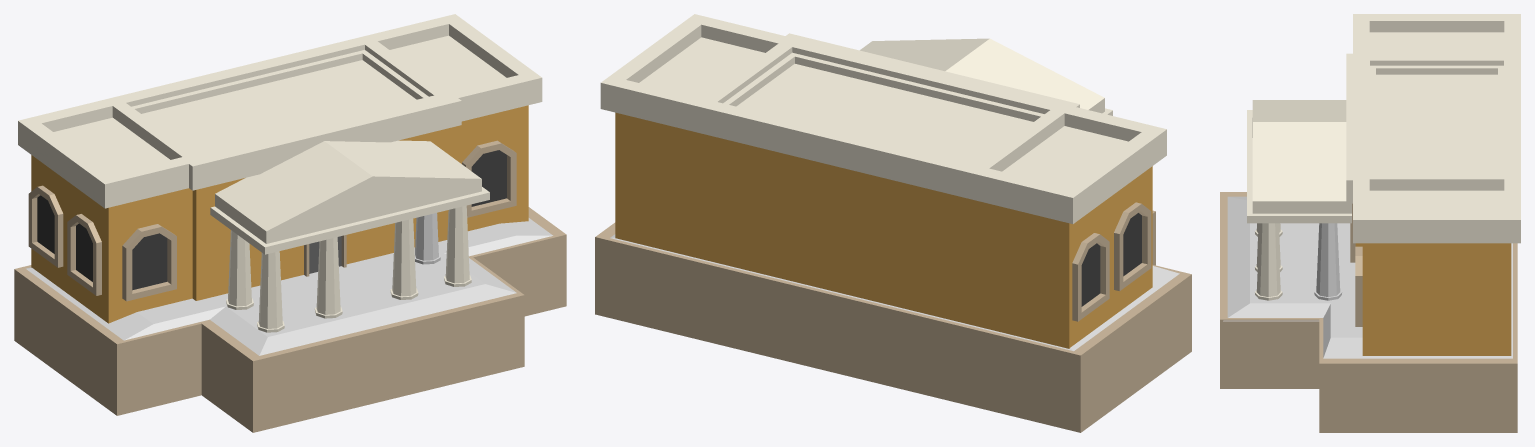
The model's file is house3.fbx.
The picture shows the model from 3 angles, left to right: view 1: azimuth 30°, elevation 25°; view 2: azimuth 150°, elevation 25°; view 3: azimuth 270°, elevation 25°; orthographic projection. The views are drawn at different scales.
Visible parts, largest first — view 1: Cube, Plane, Plane.001, Plane.002, Plane.003, Plane.004, Plane.005, Plane.006, Cylinder.001, Cylinder.004, Cylinder.005, Cylinder.002 (+3 smaller); view 2: Cube, Plane, Plane.001, Plane.006, Plane.005, Plane.002; view 3: Cube, Plane, Plane.001, Plane.002, Cylinder.002, Cylinder.003, Plane.004.
Part boxes in pixels (x1,y1,x2,y2): Cube: (18,14,542,323); Plane: (14,207,566,432); Plane.001: (210,140,489,254); Plane.002: (26,218,552,355); Plane.003: (122,224,176,301); Plane.004: (462,140,516,217); Plane.005: (28,185,63,267); Plane.006: (67,214,101,295); Cylinder.001: (257,251,284,332); Cylinder.004: (314,237,342,318); Cylinder.005: (390,218,418,299); Cylinder.002: (444,205,471,286); Cube: (600,14,1166,348); Plane: (595,210,1191,432); Plane.001: (860,38,1112,115); Plane.006: (1114,202,1151,291); Plane.005: (1072,233,1109,321); Plane.002: (610,234,1179,351); Cube: (1346,14,1520,355); Plane: (1220,192,1517,432); Plane.001: (1247,100,1351,223); Plane.002: (1223,196,1512,358); Cylinder.002: (1254,223,1282,300); Cylinder.003: (1314,223,1342,300); Plane.004: (1355,246,1362,326).
Size of the model in its own units: 1010 by 467 by 607.
